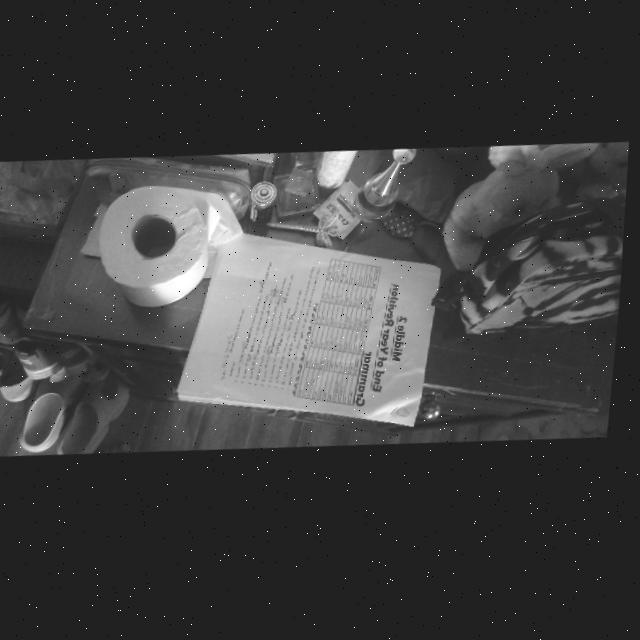document: (178, 234, 439, 425)
